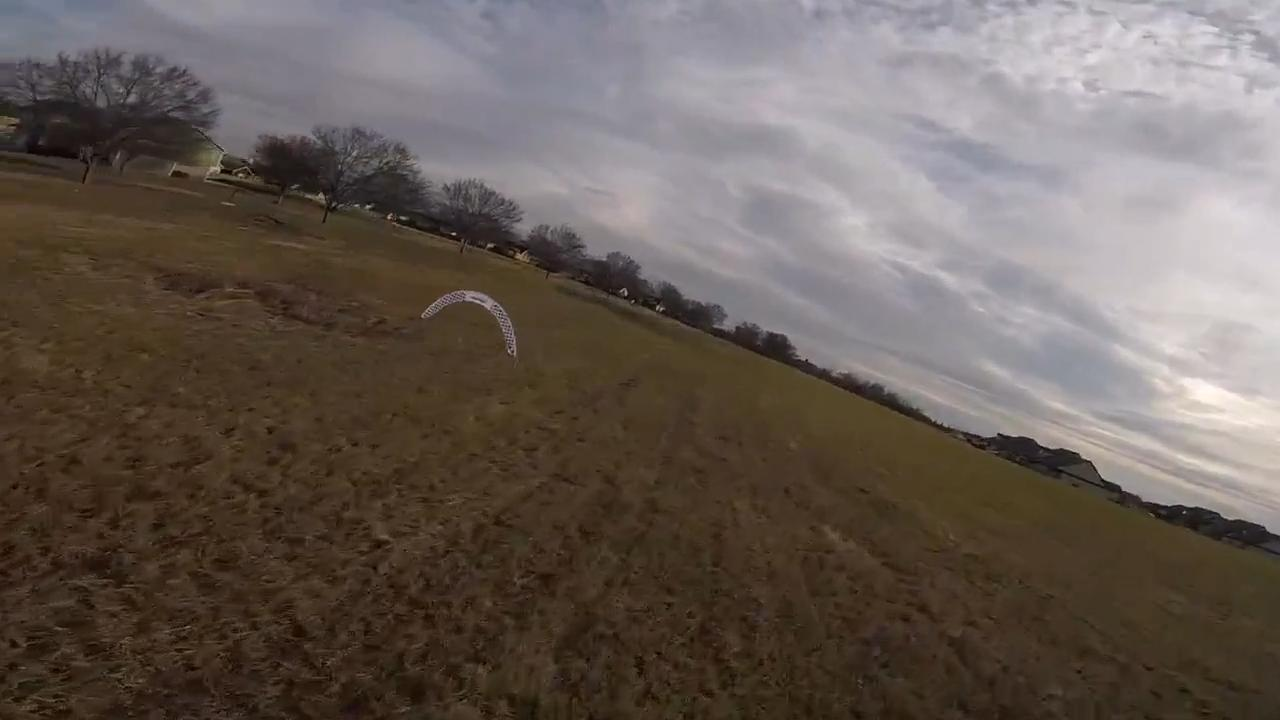gate: (421, 287, 522, 365)
